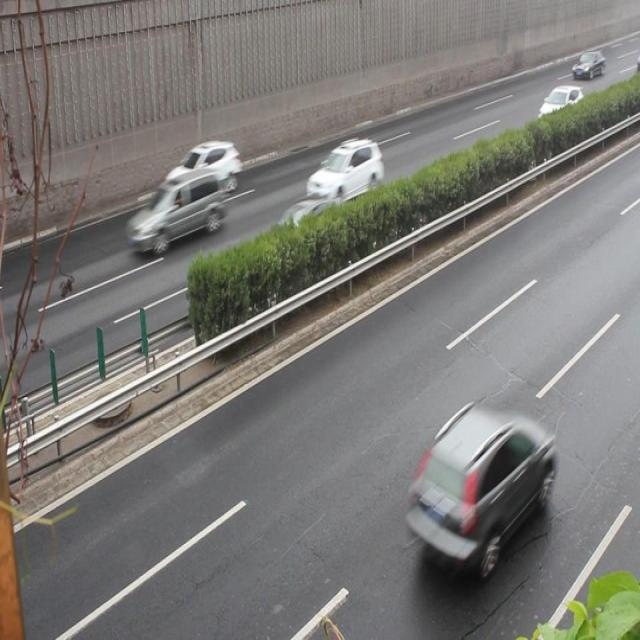car: (410, 400, 560, 569), (262, 197, 344, 265), (307, 135, 383, 204), (166, 139, 242, 201), (536, 87, 584, 130)
truck: (128, 168, 224, 254)
